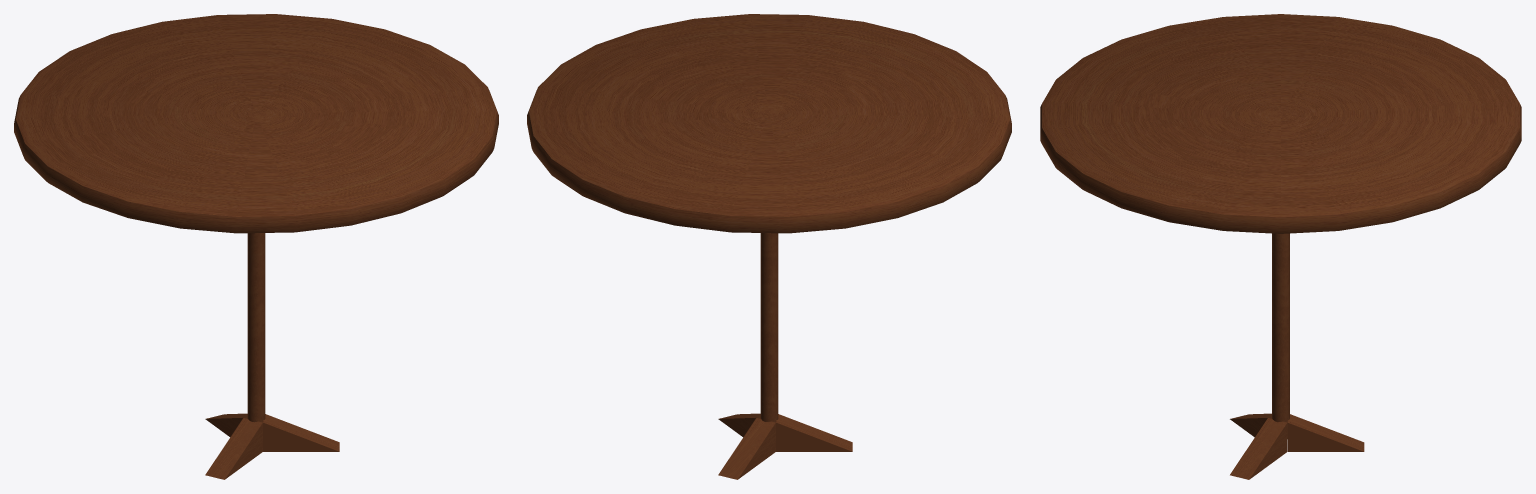
Rendered from side_table.fbx.
3 renders of one model, left to right at view 1: azimuth 30°, elevation 25°; view 2: azimuth 150°, elevation 25°; view 3: azimuth 270°, elevation 25°, orthographic.
Visible parts, largest first — view 1: side_table_1; view 2: side_table_1; view 3: side_table_1.
Boxes of the visible parts, x1,y1,x2,y2 form: side_table_1: [14, 14, 498, 479]; side_table_1: [527, 14, 1011, 479]; side_table_1: [1040, 14, 1521, 479].
Bounding box in the file's own units: 238 × 180 × 236.
1 material, 1 textured.
